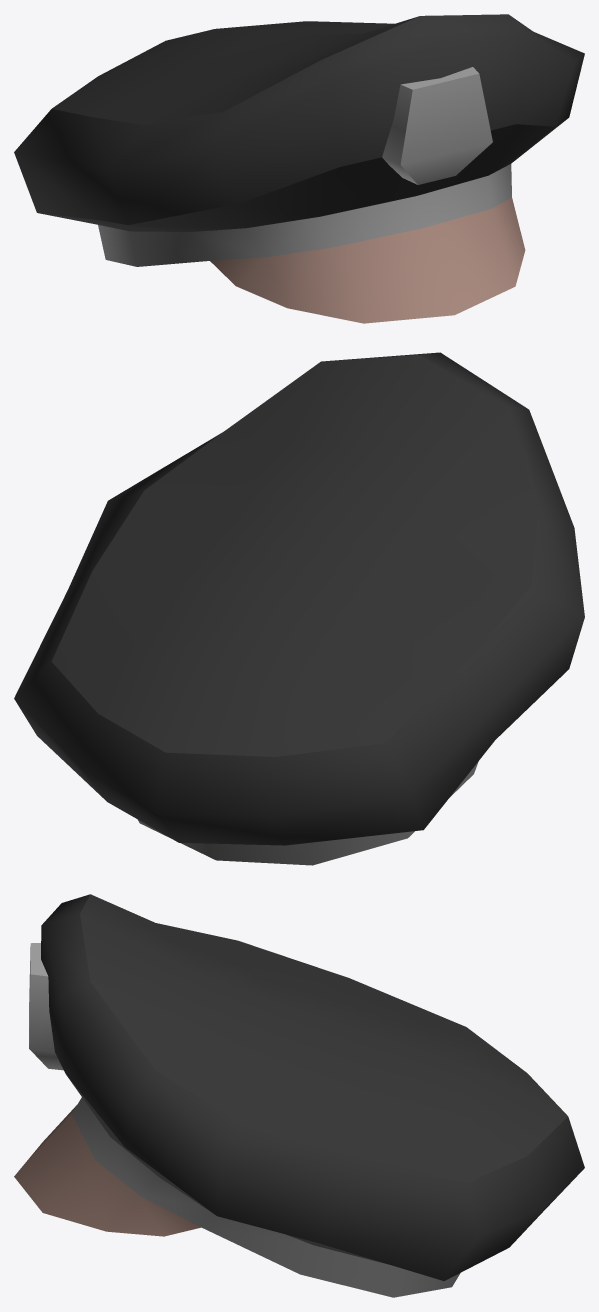
File: Cop_hat_multi_mats.fbx
The picture shows the model from 3 angles, top to bottom: view 1: azimuth 30°, elevation 25°; view 2: azimuth 150°, elevation 25°; view 3: azimuth 270°, elevation 25°; orthographic projection. The views are drawn at different scales.
Visible parts, largest first — view 1: Cop_hat_multi_mats; view 2: Cop_hat_multi_mats; view 3: Cop_hat_multi_mats.
Boxes of the visible parts, left/top/right/bottom form: Cop_hat_multi_mats: left=14, top=14, right=584, bottom=323; Cop_hat_multi_mats: left=14, top=352, right=584, bottom=865; Cop_hat_multi_mats: left=14, top=894, right=584, bottom=1297.
Bounding box in the file's own units: 79.34 × 56.57 × 85.78.
